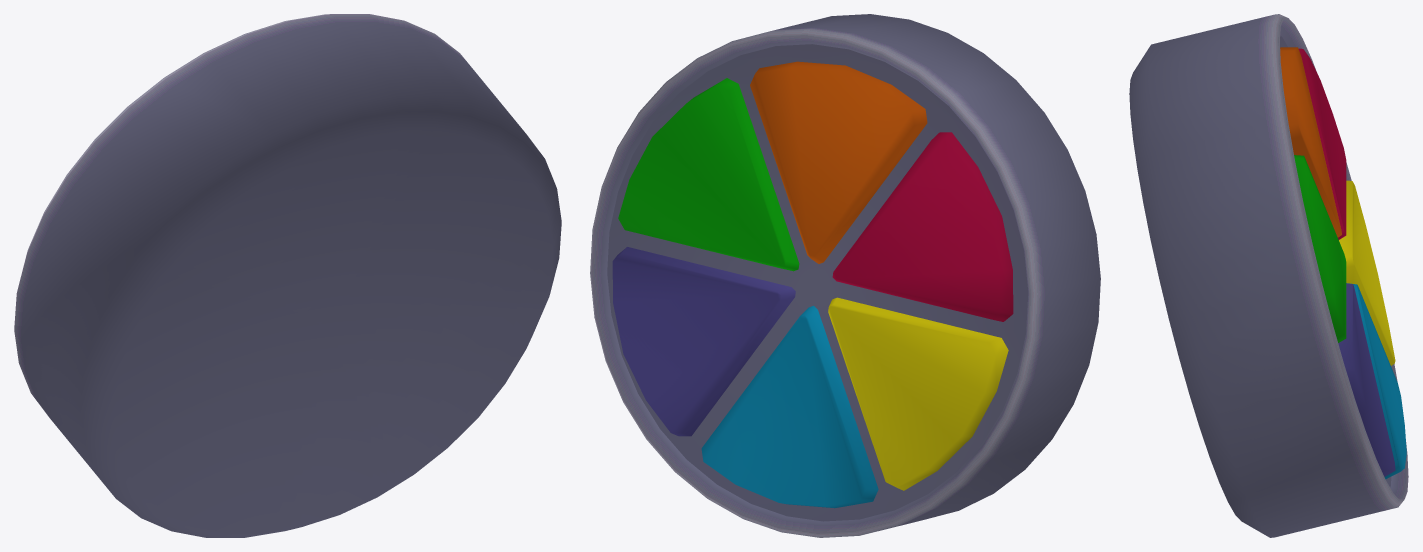
Rendered from ps2_save-icons_trivialpursuit.glb.
3 views of the same model, side by side, from view 1: azimuth 30°, elevation 25°; view 2: azimuth 150°, elevation 25°; view 3: azimuth 270°, elevation 25° (orthographic). The views are drawn at different scales.
Visible parts, largest first — view 1: WP_MISC_PS2SaveGame.ico; view 2: WP_MISC_PS2SaveGame.ico; view 3: WP_MISC_PS2SaveGame.ico.
Part boxes in pixels (x1=…): WP_MISC_PS2SaveGame.ico: x1=14, y1=14, x2=561, y2=537; WP_MISC_PS2SaveGame.ico: x1=590, y1=14, x2=1100, y2=537; WP_MISC_PS2SaveGame.ico: x1=1129, y1=14, x2=1408, y2=537.
Size of the model in its own units: 4.65 by 4.79 by 2.55.
1 material, 1 textured.
